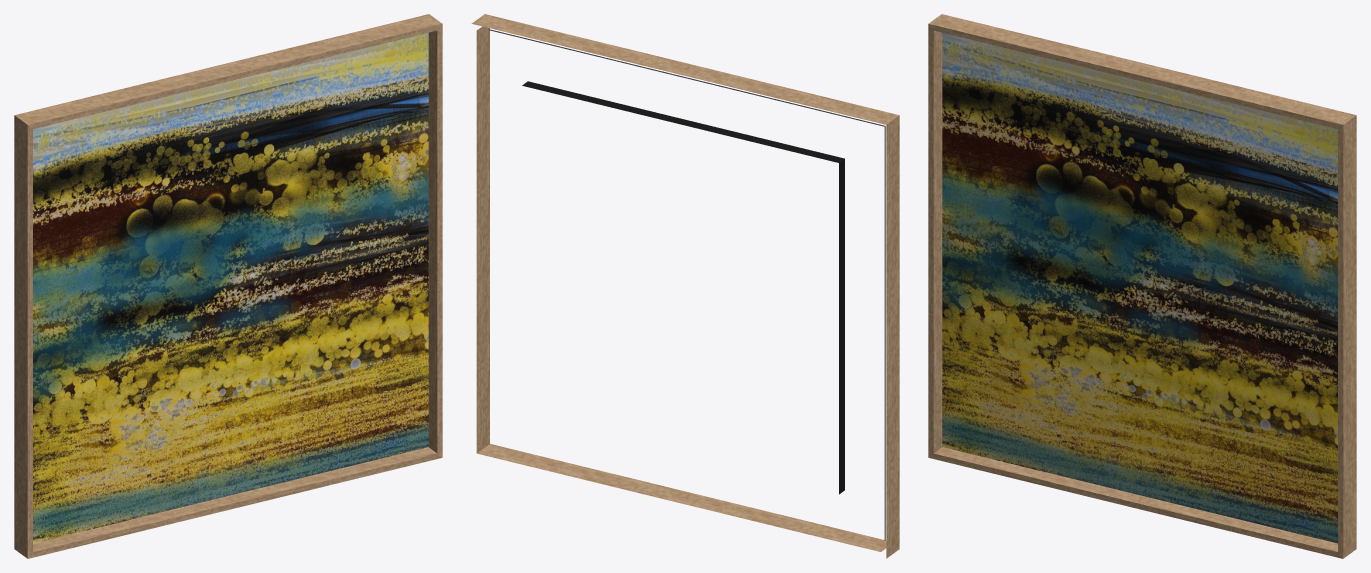
Rendered from va036_moyen_caisse-chene.glb.
3 views of the same model, side by side, from view 1: azimuth 30°, elevation 25°; view 2: azimuth 150°, elevation 25°; view 3: azimuth 330°, elevation 25° (orthographic).
Parts seen in each view (by area): view 1: va036_moyen_caisse-chene; view 2: va036_moyen_caisse-chene; view 3: va036_moyen_caisse-chene.
Boxes of the visible parts, x1,y1,x2,y2 form: va036_moyen_caisse-chene: [14, 14, 442, 558]; va036_moyen_caisse-chene: [471, 14, 899, 558]; va036_moyen_caisse-chene: [928, 14, 1356, 558].
Size of the model in its own units: 0.628 by 0.628 by 0.035.
Materials: 4 (2 with a texture image).
